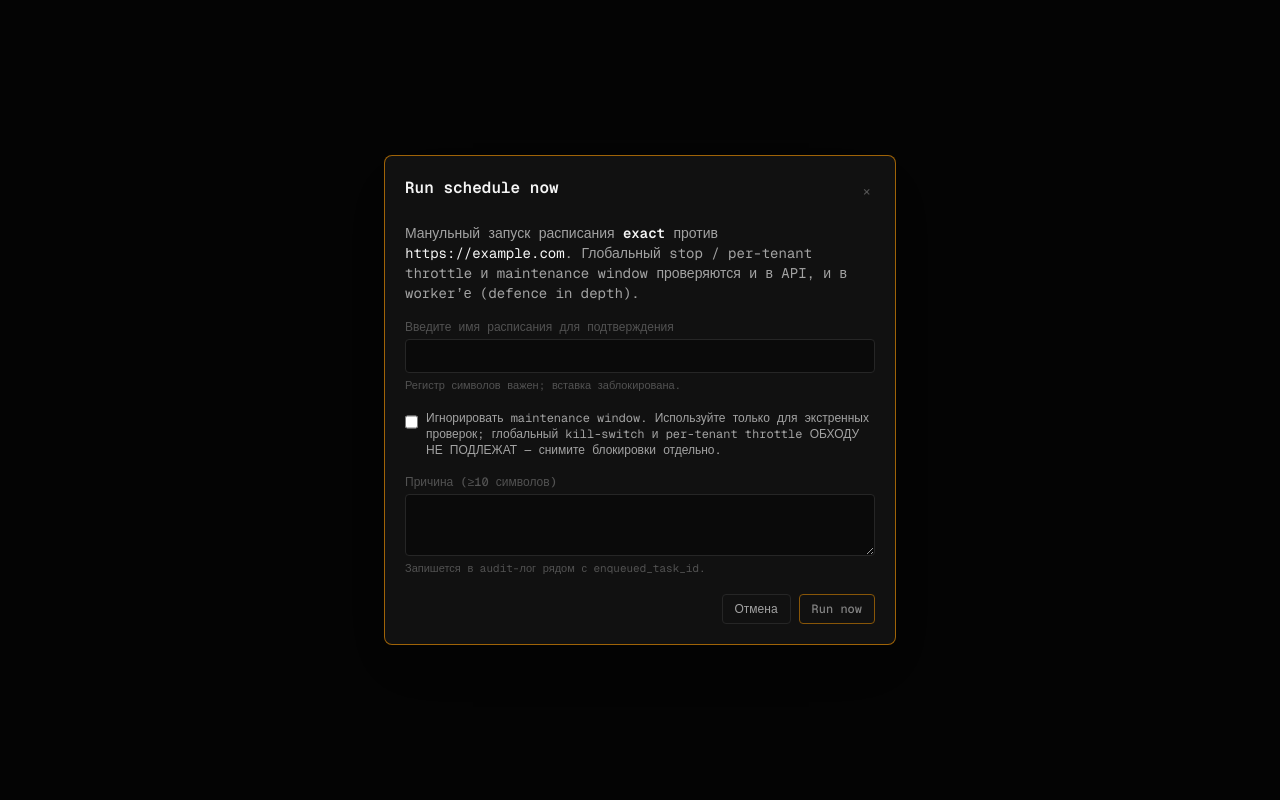
Test: RunNowDialog › disables submit until name matches AND reason is long enough
The image size is (1280, 800).
Expected: the button with test id "run-now-confirm" is disabled, [799,594,875,624]
Type "wrong" into the field with test id "run-now-typed-name" at [640, 356], box [405,339,875,373]
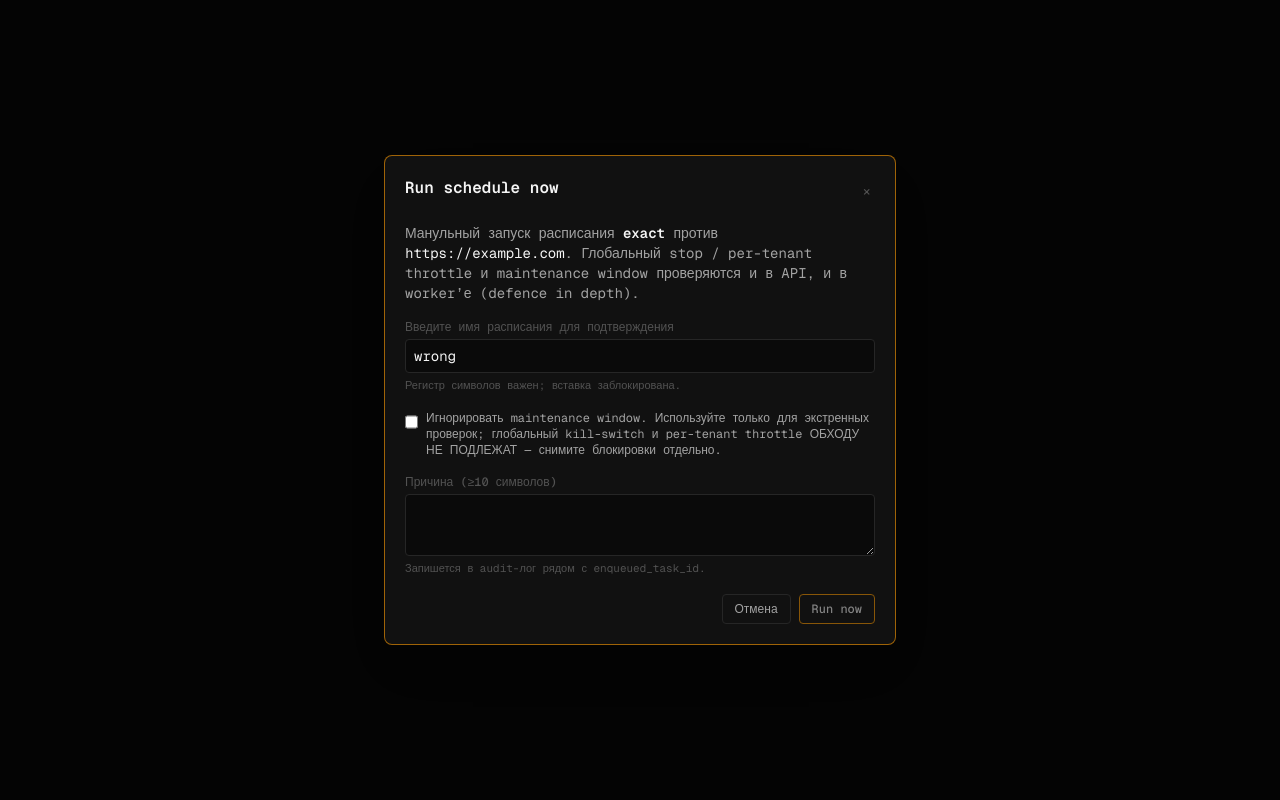
Type "manual override during incident soak" into the text box with test id "run-now-reason" at [640, 525], box [405,494,875,556]
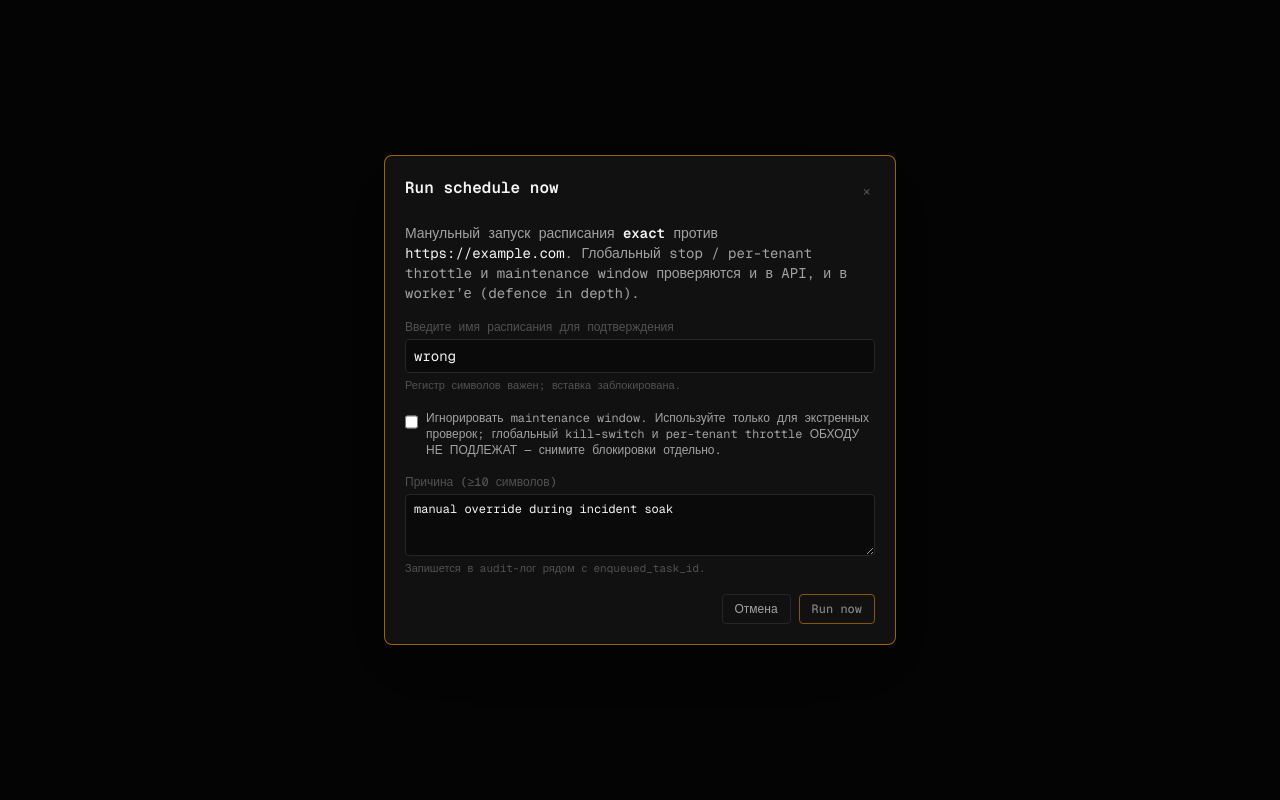
Expected: the button with test id "run-now-confirm" is disabled, [799,594,875,624]
Replace the text in the field with test id "run-now-typed-name" with "exact" at [640, 356], box [405,339,875,373]
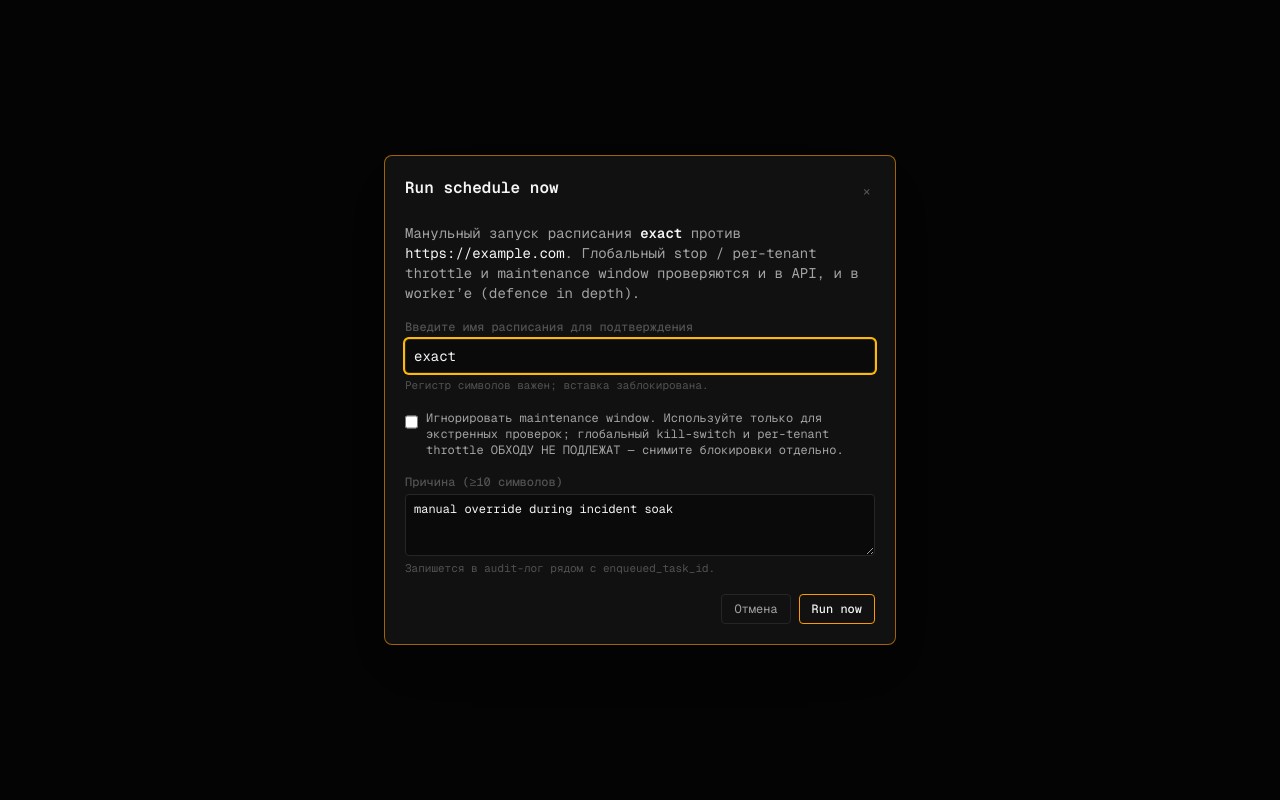
Result: the button with test id "run-now-confirm" is enabled at [799,594,875,624]
